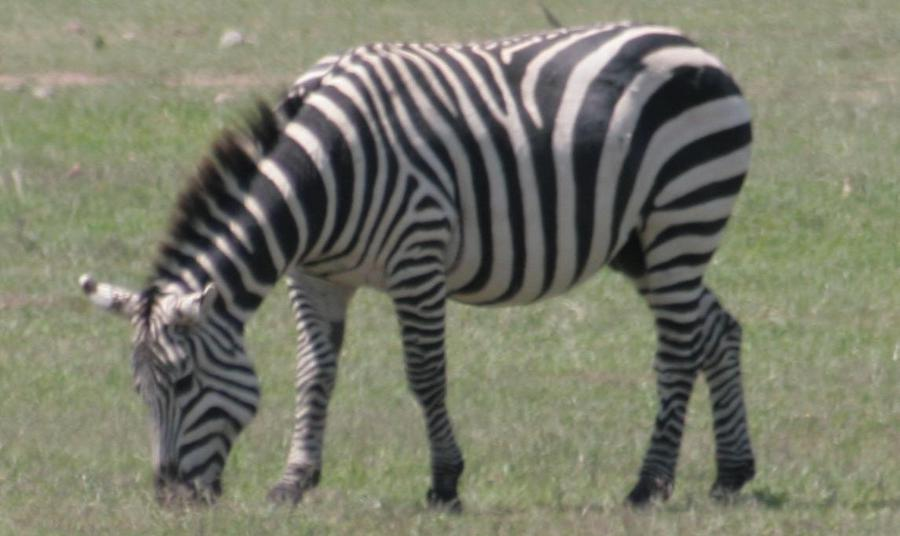zebra_plains: (248, 20, 797, 387)
